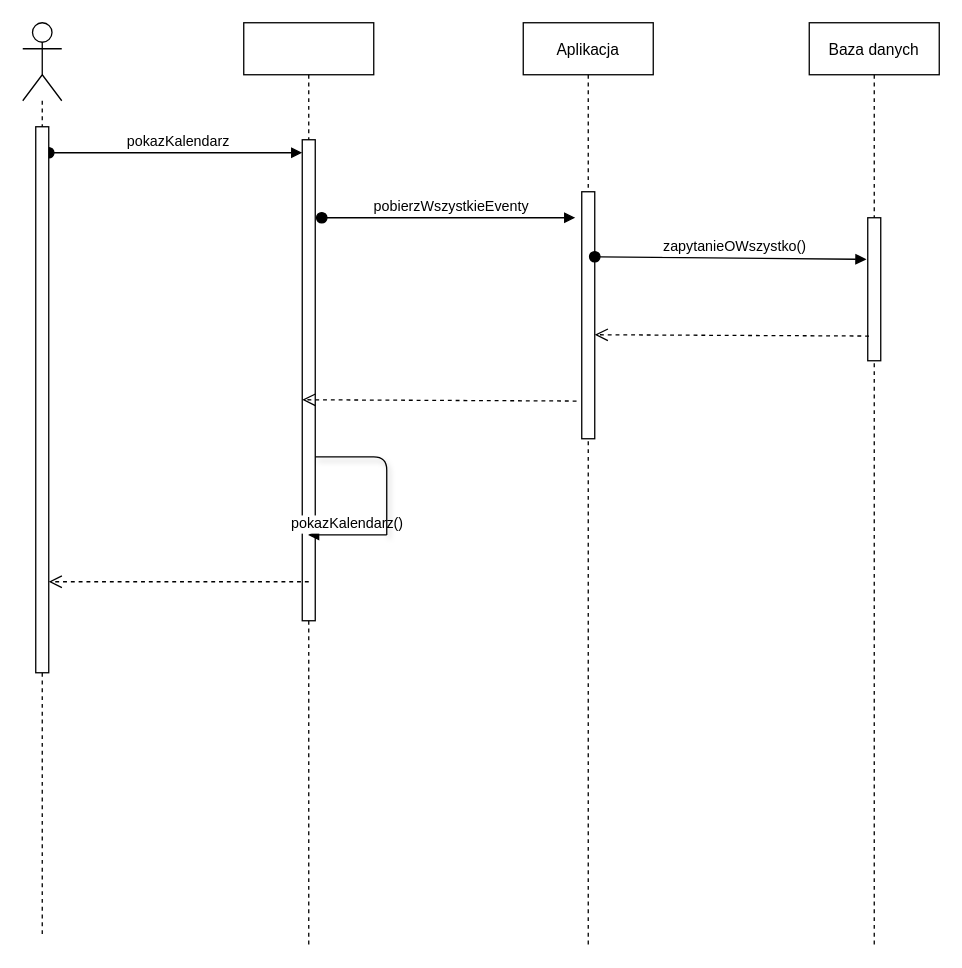
Some shapes in this 962 by 968 pixel diagram are drawn without their labels. Each missing label, with the centre of its shape:
"Powłoka graficzna" goes at (x=308, y=483).
"User" goes at (x=41, y=61).
